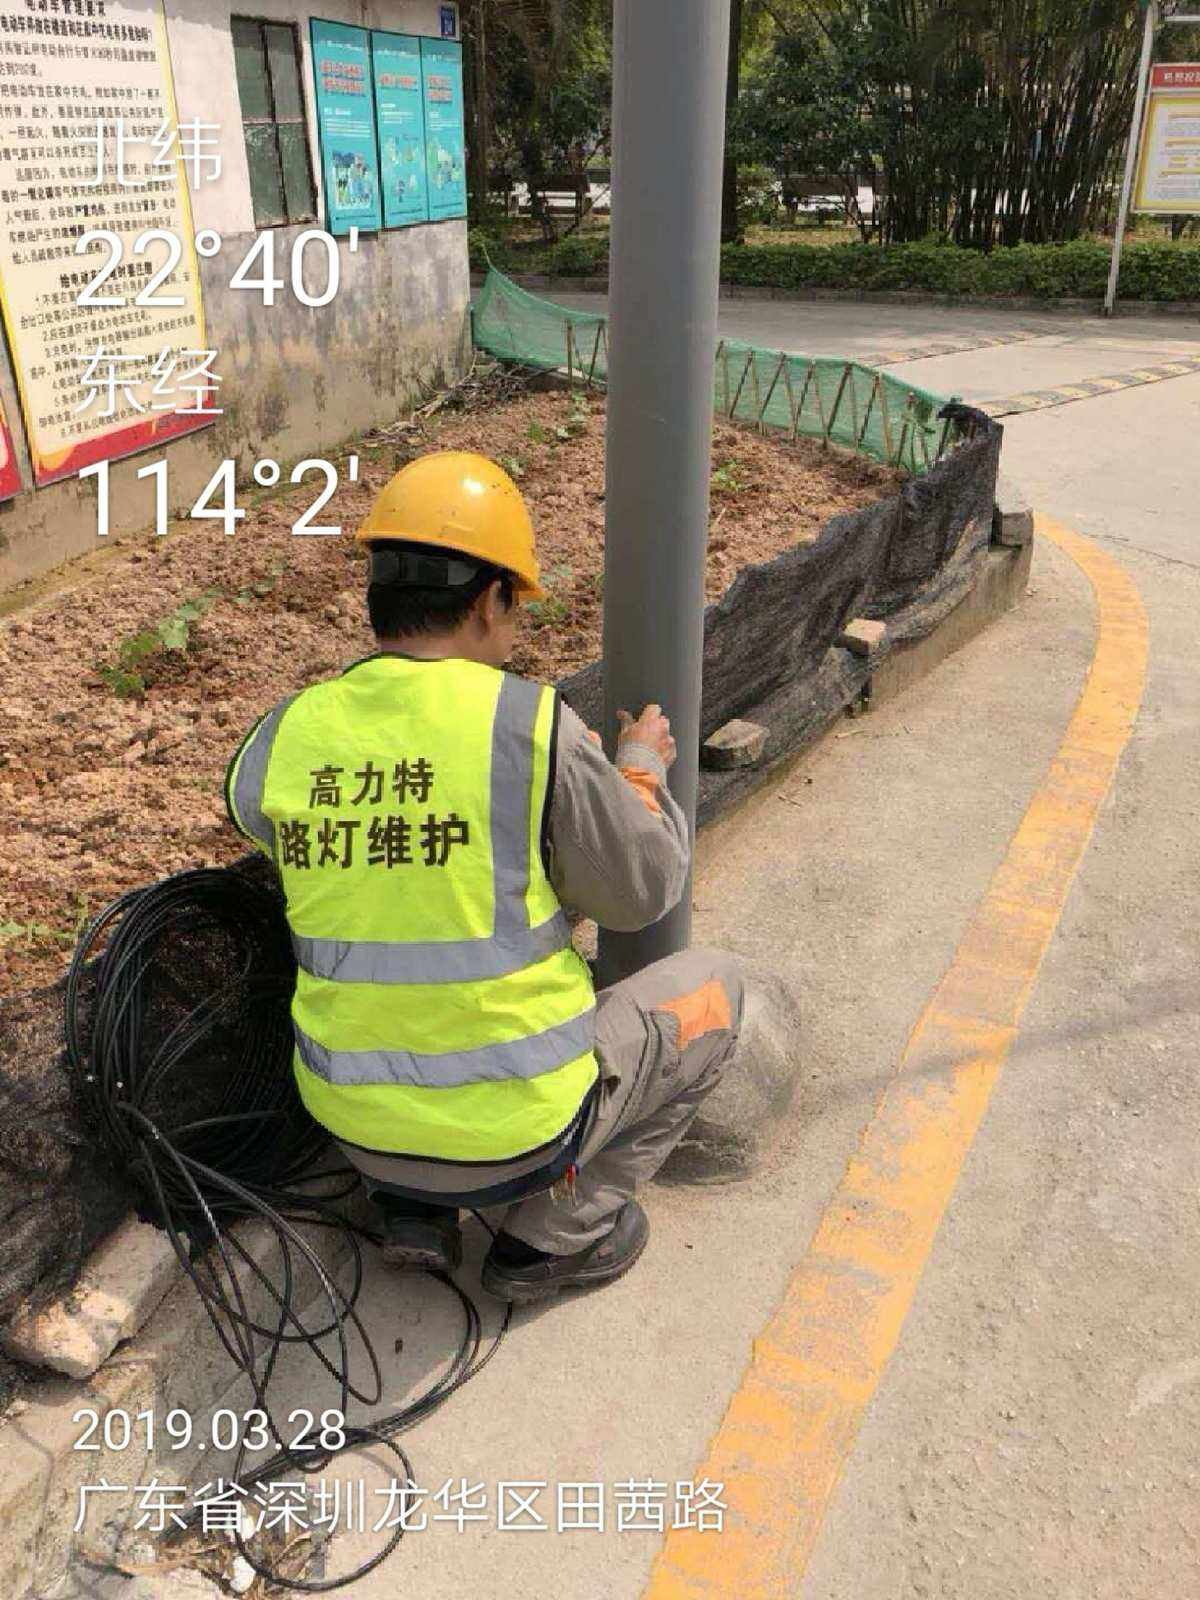person: (220, 447, 748, 1307)
reflective_vest: (228, 652, 600, 1166)
safety_helmet: (353, 446, 552, 665)
